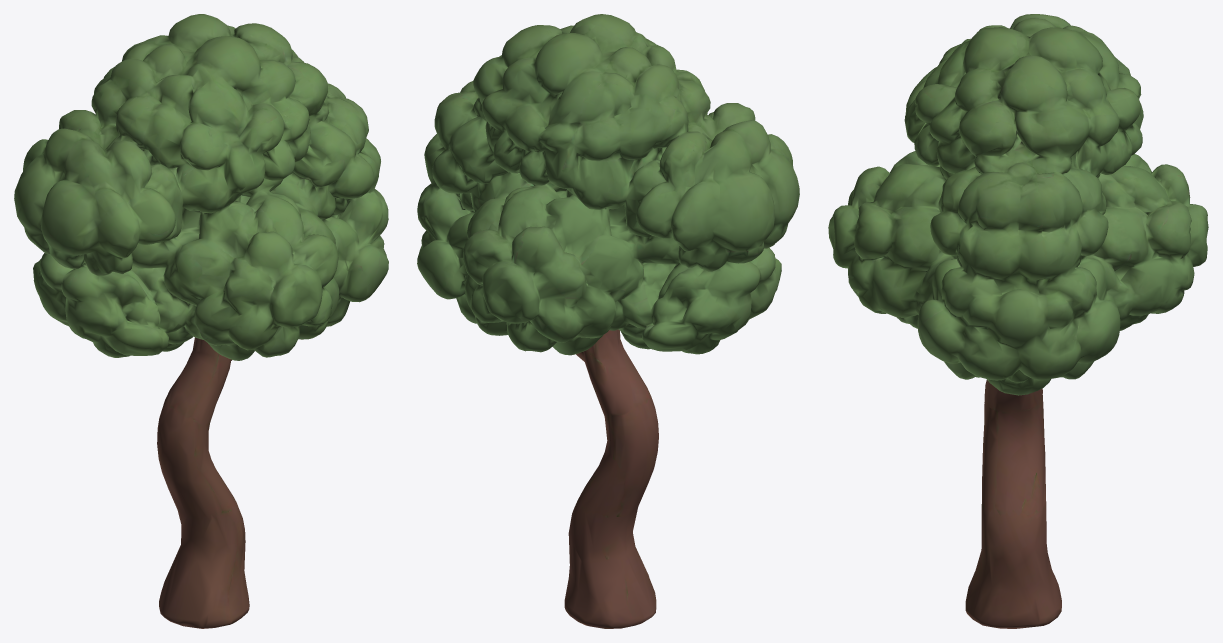
Rendered from oak-3.glb.
3 views of the same model, side by side, from view 1: azimuth 30°, elevation 25°; view 2: azimuth 150°, elevation 25°; view 3: azimuth 270°, elevation 25° (orthographic). The views are drawn at different scales.
Bounding box in the file's own units: 1.2 × 1.9 × 1.11.
1 material, 1 textured.
